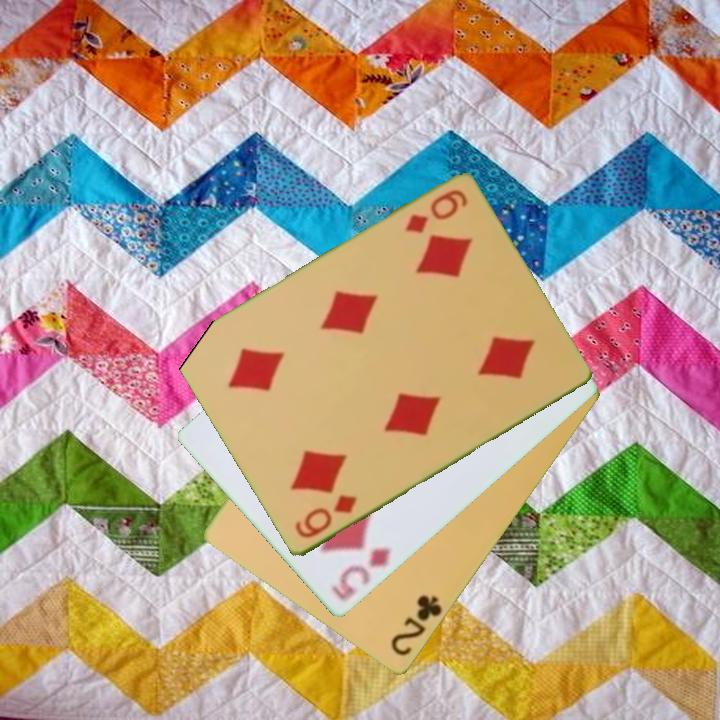2c: (387, 592, 446, 660)
5d: (327, 544, 395, 605)
6d: (401, 186, 471, 238), (291, 491, 360, 542)
